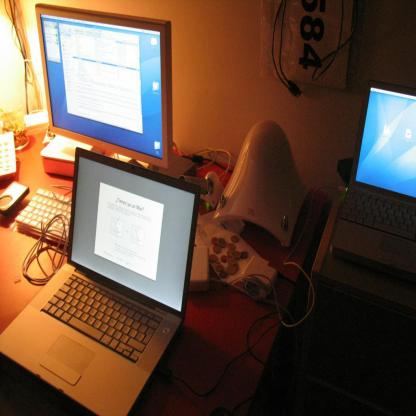board: (0, 147, 203, 416), (330, 82, 416, 284)
